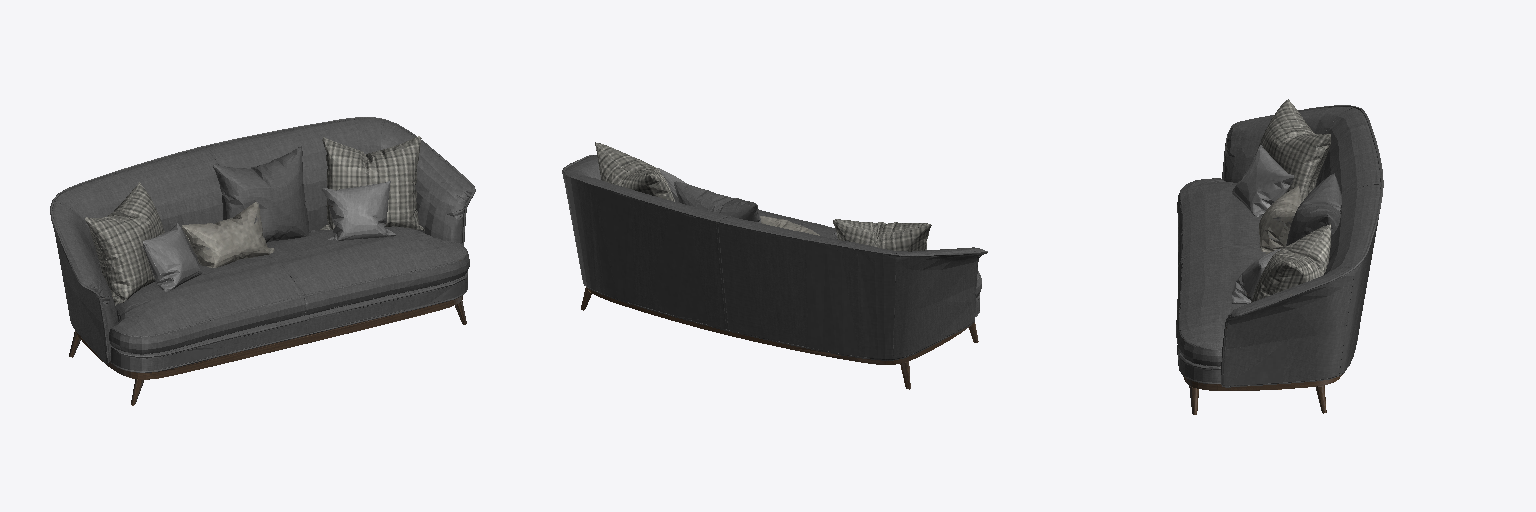
The picture shows the model from 3 angles: view 1: azimuth 30°, elevation 25°; view 2: azimuth 150°, elevation 25°; view 3: azimuth 270°, elevation 25°; orthographic projection.
Parts seen in each view (by area): view 1: solid_003, solid_004, solid_002, solid_001, solid_005; view 2: solid_003, solid_004, solid_005; view 3: solid_003, solid_004, solid_002, solid_001, solid_005.
Boxes of the visible parts, <box> form: solid_003: <box>50,117,475,372</box>; solid_004: <box>85,136,424,305</box>; solid_002: <box>143,181,395,291</box>; solid_001: <box>182,202,274,267</box>; solid_005: <box>69,296,466,405</box>; solid_003: <box>562,155,987,360</box>; solid_004: <box>595,142,931,251</box>; solid_005: <box>581,287,978,389</box>; solid_003: <box>1176,105,1383,387</box>; solid_004: <box>1251,99,1331,302</box>; solid_002: <box>1232,145,1293,303</box>; solid_001: <box>1259,186,1301,253</box>; solid_005: <box>1183,374,1342,414</box>.
Bounding box in the file's own units: 2 × 0.7466 × 0.909.
Materials: 1 (1 with a texture image).